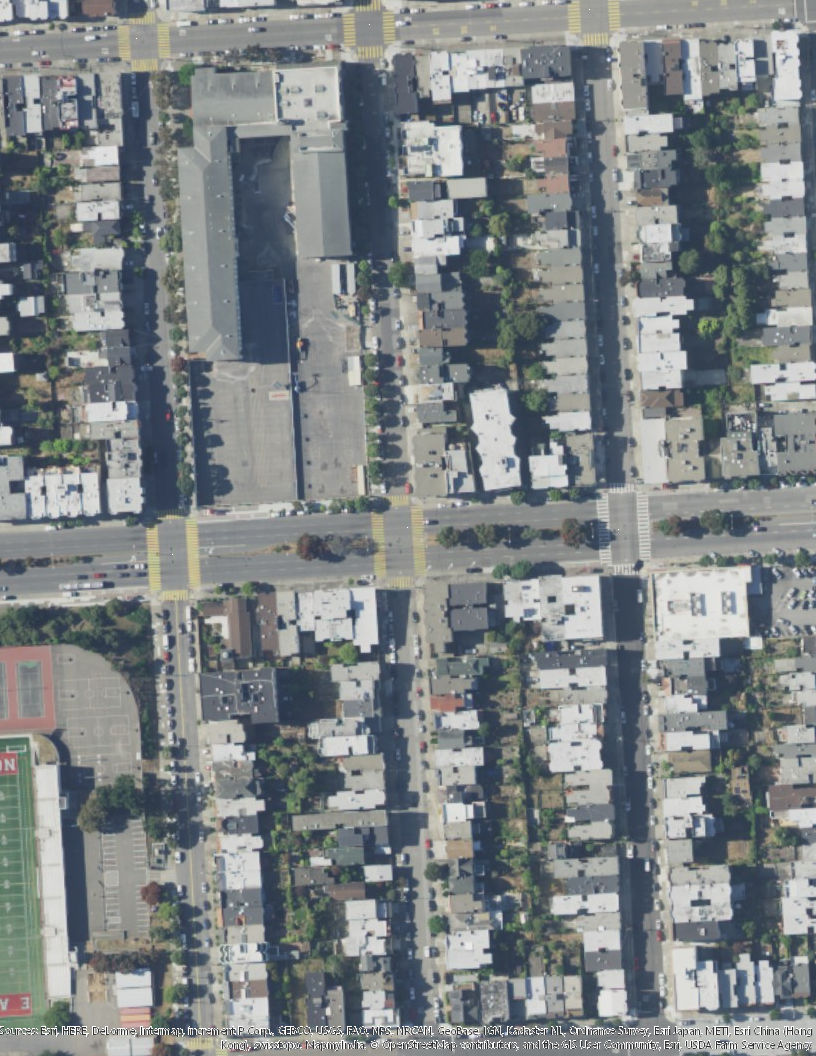zebracross: (408, 506, 429, 575), (183, 518, 202, 590), (634, 493, 653, 563), (369, 512, 387, 580), (596, 495, 613, 563), (146, 525, 162, 593), (115, 25, 133, 62), (341, 13, 356, 49), (156, 25, 171, 60), (127, 10, 156, 28), (381, 10, 396, 44), (567, 1, 582, 32), (384, 576, 417, 589), (131, 59, 159, 74), (606, 483, 637, 496), (184, 1037, 216, 1049), (357, 46, 384, 60), (612, 563, 643, 575), (380, 497, 410, 508), (160, 589, 187, 601), (353, 1, 381, 12), (584, 32, 604, 47), (156, 510, 185, 519)
